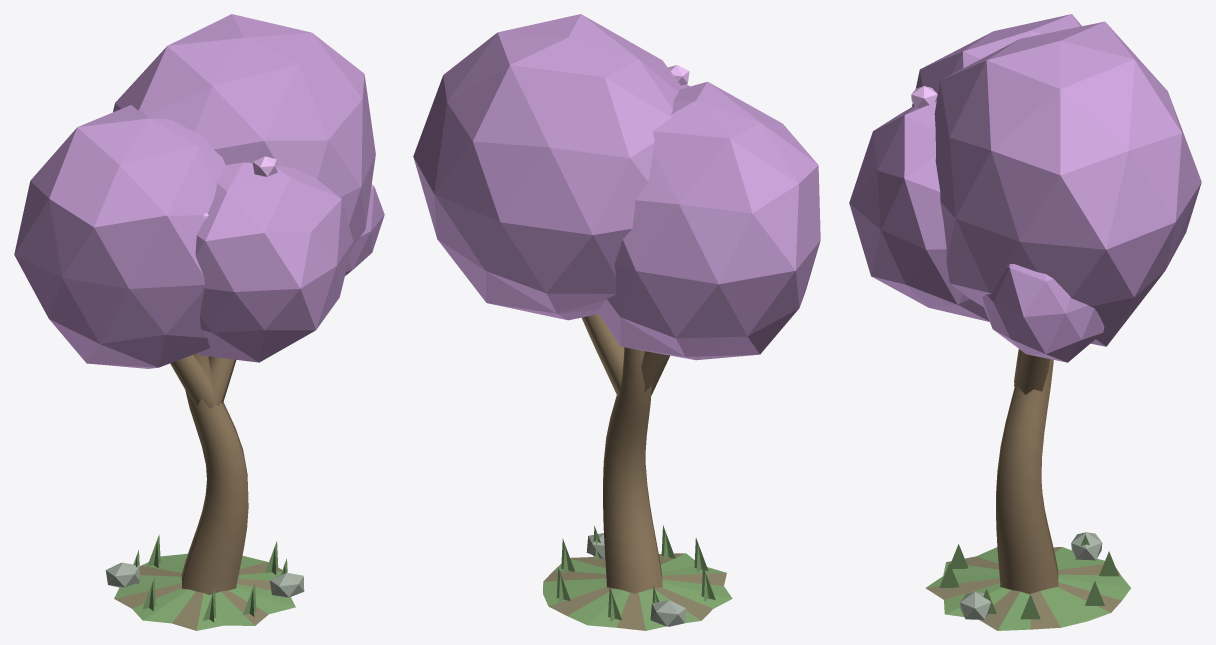
Rendered from flowering_lilac.glb.
3 views of the same model, side by side, from view 1: azimuth 30°, elevation 25°; view 2: azimuth 150°, elevation 25°; view 3: azimuth 270°, elevation 25° (orthographic). The views are drawn at different scales.
Visible parts, largest first — view 1: VR faceted leaf cluster; view 2: VR faceted leaf cluster; view 3: VR faceted leaf cluster.
Part boxes in pixels (x1,y1,x2,y2): VR faceted leaf cluster: (14, 14, 384, 630); VR faceted leaf cluster: (413, 14, 820, 630); VR faceted leaf cluster: (849, 14, 1201, 630).
Bounding box in the file's own units: 5.16 × 7.51 × 4.12.
